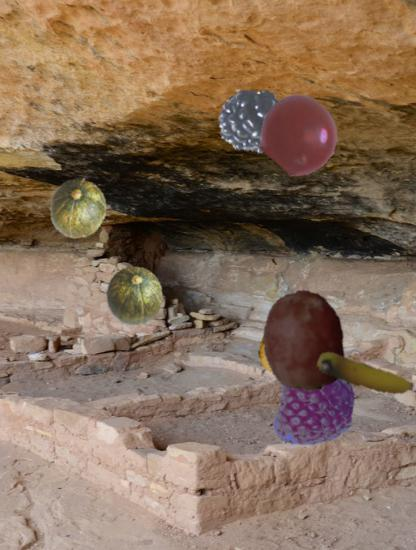Banana: (314, 326, 415, 427)
Grape: (253, 290, 355, 392)
Melon: (46, 176, 110, 240), (103, 264, 166, 327)
Mulberry: (201, 87, 290, 176)
Papaya: (258, 312, 330, 384)
Raspberry: (273, 364, 358, 449)
Redcurrant: (261, 96, 338, 173)
